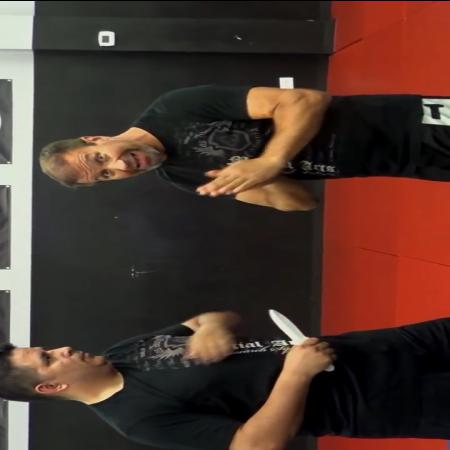long weapon: (262, 306, 338, 374)
